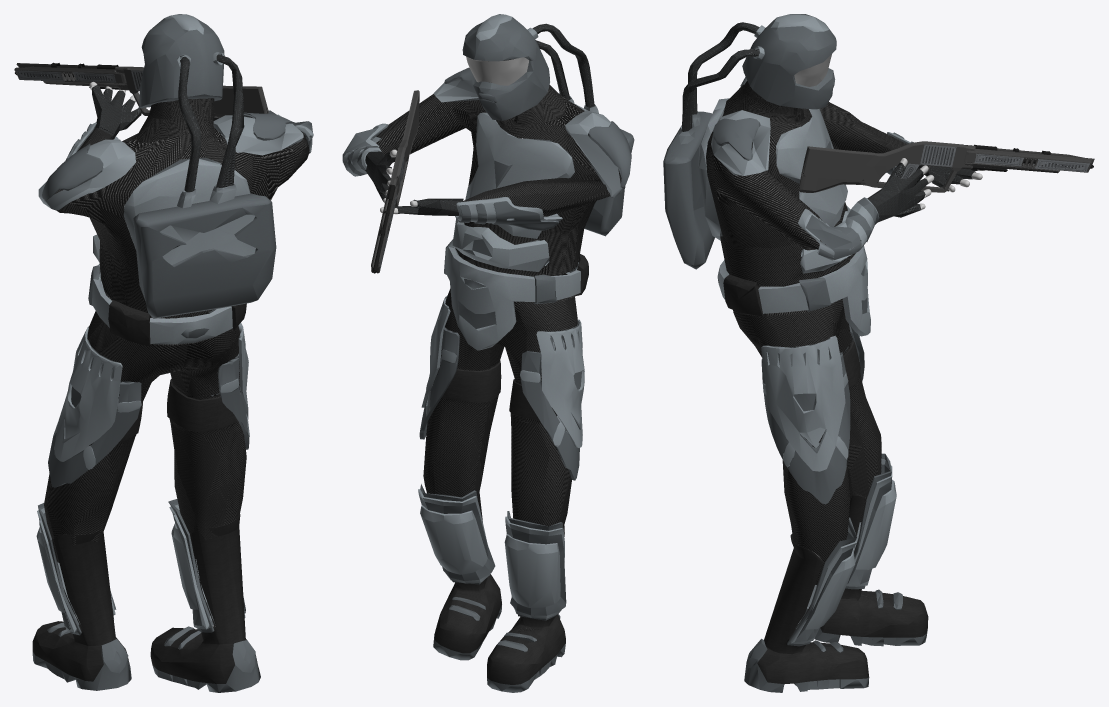
The model's file is AndarEscopeta.0019.obj.
The picture shows the model from 3 angles, left to right: view 1: azimuth 30°, elevation 25°; view 2: azimuth 150°, elevation 25°; view 3: azimuth 270°, elevation 25°; orthographic projection. The views are drawn at different scales.
Visible parts, largest first — view 1: personaje:extrudedSurface2 polySurface152, personaje:bota1 polySurface152, personaje:PANTALON polySurface152, personaje:CAMISETABUENA polySurface152, personaje:pPipe4 polySurface152, personaje:pCube4 polySurface152, personaje:cosoarmdaurapierna1 polySurface152, personaje:cinturon polySurface152, escopeta:Cylinder001 polySurface152, personaje:armadbota1 polySurface152, personaje:polySurface6 polySurface152, personaje:HOMBRO2 polySurface152 (+4 smaller); view 2: personaje:PANTALON polySurface152, personaje:pPipe4 polySurface152, personaje:CAMISETABUENA polySurface152, personaje:bota1 polySurface152, personaje:armadbota1 polySurface152, personaje:extrudedSurface2 polySurface152, personaje:cinturon polySurface152, personaje:pCube4 polySurface152, personaje:cosoarmdaurapierna1 polySurface152, personaje:polySurface6 polySurface152, escopeta:Cylinder001 polySurface152, personaje:polySurface2 polySurface152 (+7 smaller); view 3: personaje:CAMISETABUENA polySurface152, personaje:bota1 polySurface152, personaje:extrudedSurface2 polySurface152, personaje:pPipe4 polySurface152, personaje:pCube4 polySurface152, personaje:PANTALON polySurface152, escopeta:Cylinder001 polySurface152, personaje:cinturon polySurface152, personaje:armadbota1 polySurface152, personaje:cosoarmadurapierna2 polySurface152, personaje:hombro1 polySurface152, personaje:partearmdBRAZO2 polySurface152 (+1 smaller).
Boxes of the visible parts, x1=… form: personaje:extrudedSurface2 polySurface152: x1=133, y1=14, x2=276, y2=318; personaje:bota1 polySurface152: x1=32, y1=515, x2=260, y2=692; personaje:PANTALON polySurface152: x1=44, y1=291, x2=246, y2=562; personaje:CAMISETABUENA polySurface152: x1=55, y1=98, x2=309, y2=345; personaje:pPipe4 polySurface152: x1=38, y1=85, x2=312, y2=262; personaje:pCube4 polySurface152: x1=38, y1=309, x2=249, y2=635; personaje:cosoarmdaurapierna1 polySurface152: x1=53, y1=326, x2=141, y2=469; personaje:cinturon polySurface152: x1=88, y1=264, x2=246, y2=346; escopeta:Cylinder001 polySurface152: x1=14, y1=62, x2=268, y2=118; personaje:armadbota1 polySurface152: x1=36, y1=504, x2=245, y2=632; personaje:polySurface6 polySurface152: x1=118, y1=379, x2=238, y2=442; personaje:HOMBRO2 polySurface152: x1=42, y1=144, x2=103, y2=200; personaje:PANTALON polySurface152: x1=423, y1=263, x2=577, y2=527; personaje:pPipe4 polySurface152: x1=342, y1=78, x2=625, y2=271; personaje:CAMISETABUENA polySurface152: x1=361, y1=59, x2=621, y2=302; personaje:bota1 polySurface152: x1=433, y1=492, x2=565, y2=692; personaje:armadbota1 polySurface152: x1=418, y1=489, x2=564, y2=618; personaje:extrudedSurface2 polySurface152: x1=462, y1=14, x2=634, y2=236; personaje:cinturon polySurface152: x1=444, y1=239, x2=588, y2=350; personaje:pCube4 polySurface152: x1=419, y1=295, x2=581, y2=620; personaje:cosoarmdaurapierna1 polySurface152: x1=520, y1=319, x2=584, y2=447; personaje:polySurface6 polySurface152: x1=442, y1=360, x2=539, y2=420; escopeta:Cylinder001 polySurface152: x1=371, y1=90, x2=419, y2=273; personaje:polySurface2 polySurface152: x1=457, y1=201, x2=559, y2=230; personaje:CAMISETABUENA polySurface152: x1=706, y1=80, x2=906, y2=315; personaje:bota1 polySurface152: x1=744, y1=493, x2=928, y2=692; personaje:extrudedSurface2 polySurface152: x1=663, y1=14, x2=836, y2=269; personaje:pPipe4 polySurface152: x1=698, y1=77, x2=977, y2=273; personaje:pCube4 polySurface152: x1=761, y1=324, x2=891, y2=646; personaje:PANTALON polySurface152: x1=733, y1=256, x2=881, y2=584; escopeta:Cylinder001 polySurface152: x1=799, y1=141, x2=1094, y2=192; personaje:cinturon polySurface152: x1=717, y1=245, x2=870, y2=336; personaje:armadbota1 polySurface152: x1=791, y1=459, x2=896, y2=643; personaje:cosoarmadurapierna2 polySurface152: x1=761, y1=351, x2=850, y2=504; personaje:hombro1 polySurface152: x1=713, y1=118, x2=760, y2=160; personaje:partearmdBRAZO2 polySurface152: x1=798, y1=197, x2=879, y2=260.
Size of the model in its own units: 4.22 by 9.66 by 5.69.
